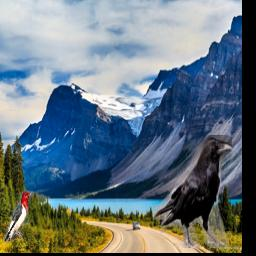Crow: (154, 135, 233, 248)
Woodpecker: (5, 192, 34, 244)
